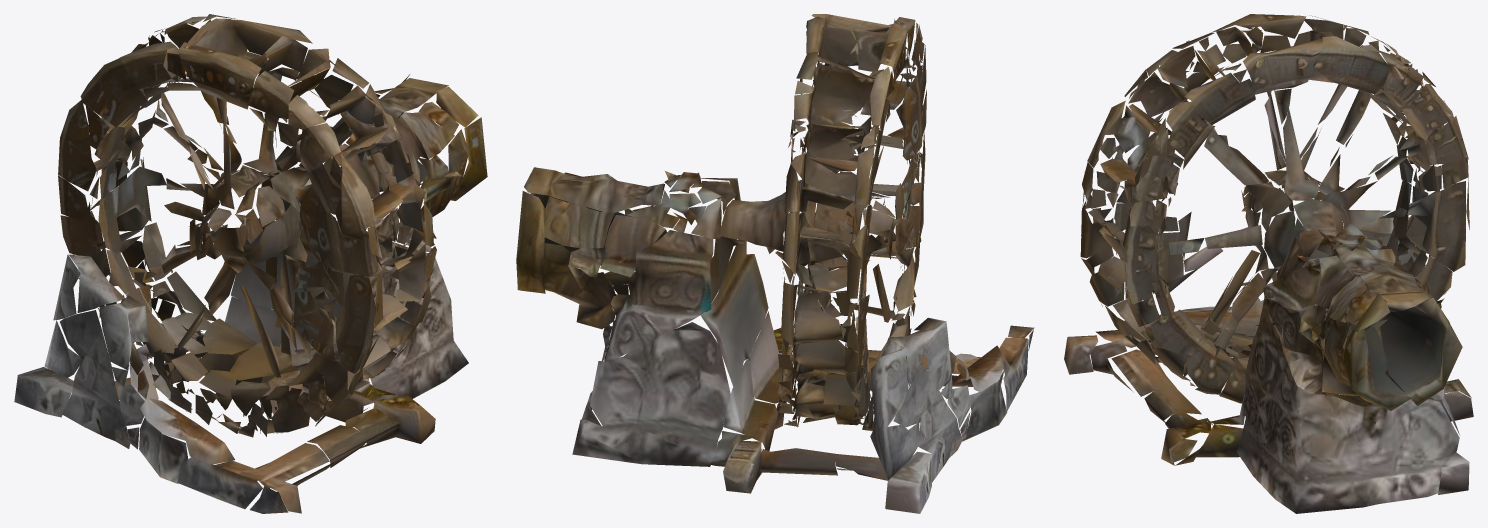
File: prop_vaelor_turbine_wheel_LOD2.glb
The picture shows the model from 3 angles, left to right: view 1: azimuth 30°, elevation 25°; view 2: azimuth 150°, elevation 25°; view 3: azimuth 270°, elevation 25°; orthographic projection. The views are drawn at different scales.
Visible parts, largest first — view 1: tripo_node_53d2a571-26fc-474f-be46-1b7faa536caf; view 2: tripo_node_53d2a571-26fc-474f-be46-1b7faa536caf; view 3: tripo_node_53d2a571-26fc-474f-be46-1b7faa536caf.
Part boxes in pixels (<box>): tripo_node_53d2a571-26fc-474f-be46-1b7faa536caf: <box>14,14,487,513</box>; tripo_node_53d2a571-26fc-474f-be46-1b7faa536caf: <box>516,14,1034,513</box>; tripo_node_53d2a571-26fc-474f-be46-1b7faa536caf: <box>1064,14,1473,513</box>.
Bounding box in the file's own units: 1 × 0.874 × 0.8631.
Materials: 1 (1 with a texture image).
